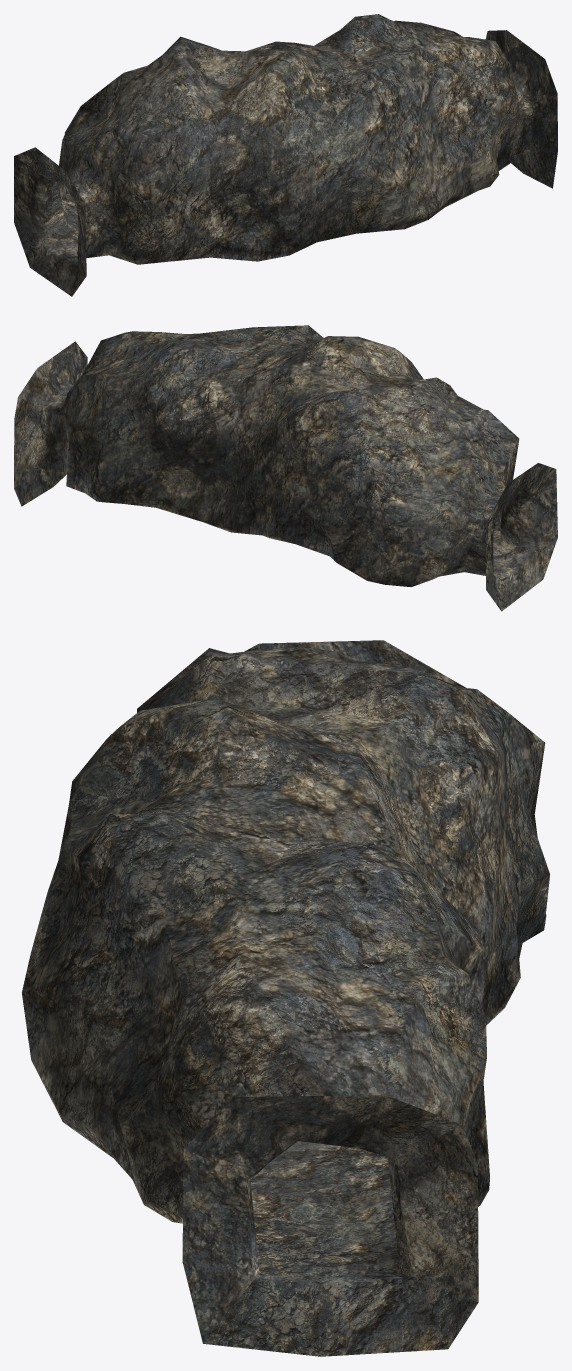
The model's file is Module19_LOD1.fbx.
The picture shows the model from 3 angles, top to bottom: view 1: azimuth 30°, elevation 25°; view 2: azimuth 150°, elevation 25°; view 3: azimuth 270°, elevation 25°; orthographic projection. The views are drawn at different scales.
Parts seen in each view (by area): view 1: cave_el19_1300_Group50934; view 2: cave_el19_1300_Group50934; view 3: cave_el19_1300_Group50934.
Boxes of the visible parts, left/top/right/bottom form: cave_el19_1300_Group50934: left=14, top=14, right=557, bottom=296; cave_el19_1300_Group50934: left=14, top=325, right=557, bottom=611; cave_el19_1300_Group50934: left=22, top=640, right=549, bottom=1356.
Size of the model in its own units: 30.76 by 12.34 by 14.99.
